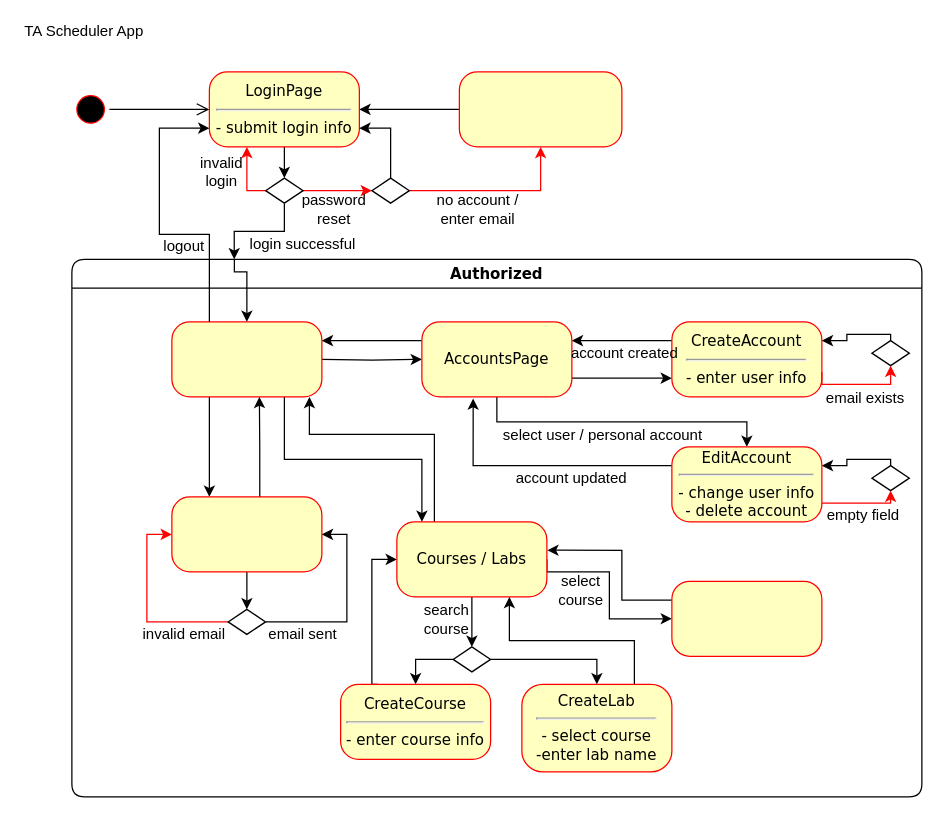
The diagram is 944 pixels wide and 819 high, and some of its shapes have lost their labels. The centre of each missing label's shape, as x and y in pixels:
AccountReset - submit new login info: pixel 540 109
AdminDashboard: pixel 246 359
Notifications - enter email - enter message: pixel 246 534
ViewCourse - edit / add info: pixel 746 618
